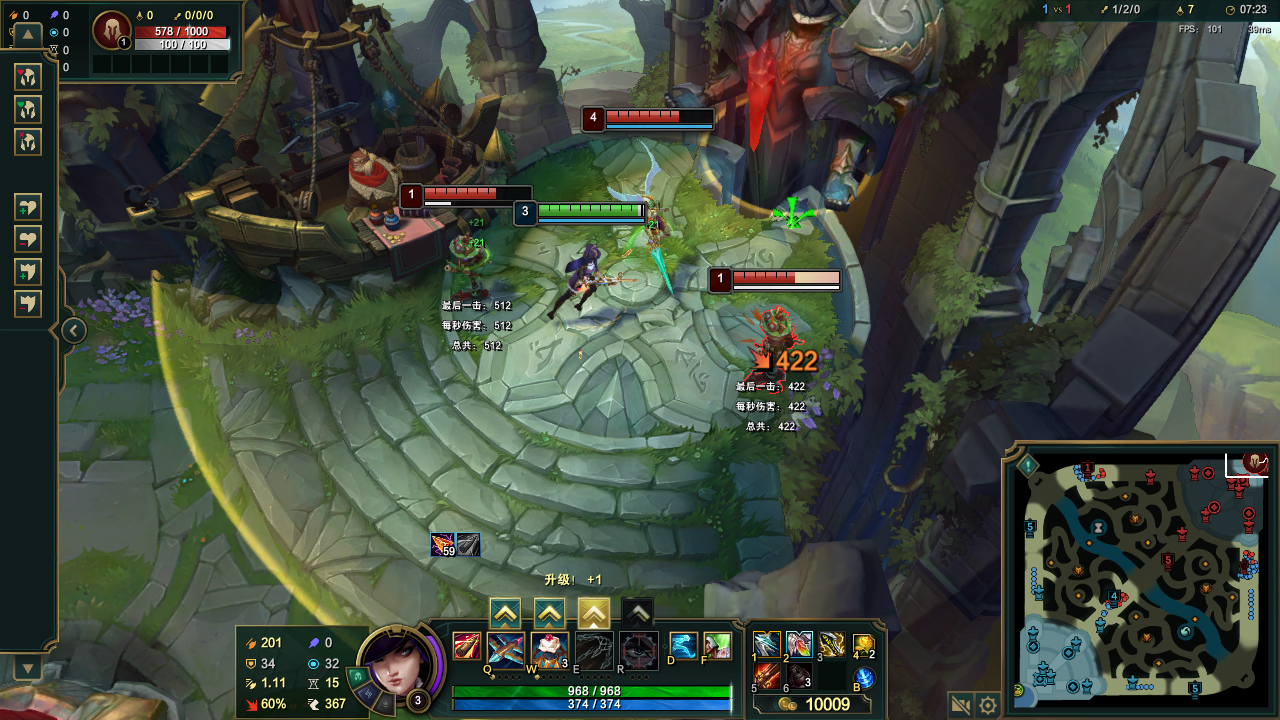DFYX: (605, 110, 710, 124), (426, 186, 529, 199), (734, 272, 840, 284)
